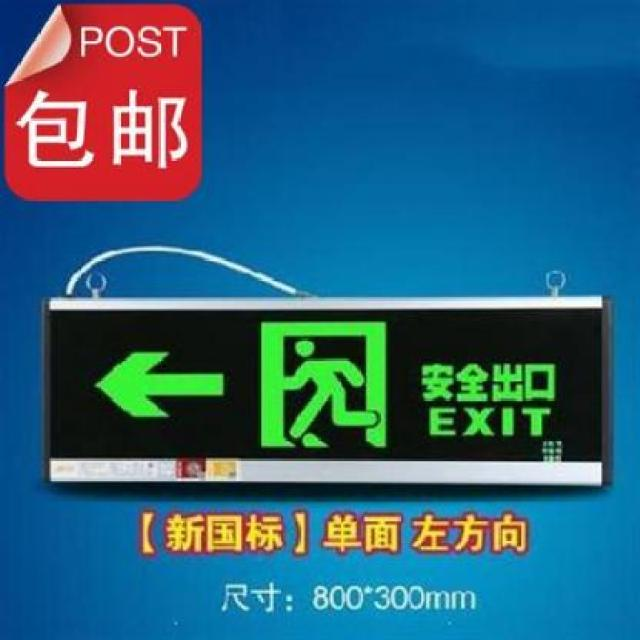exit_sign: (48, 296, 610, 496)
